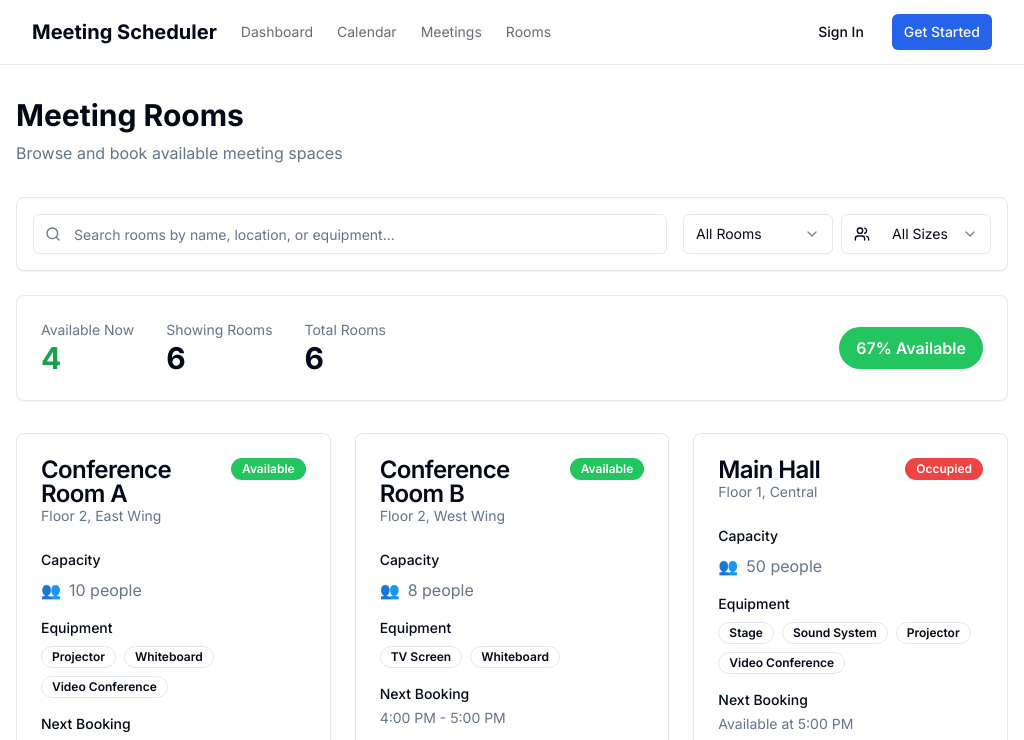
Test: RoomsPage › shows empty state when no rooms match filters
Type "NonexistentRoom12345" into the field with placeholder "Search rooms by name, location, or equipment..." at x=350, y=234, box [33, 214, 667, 254]
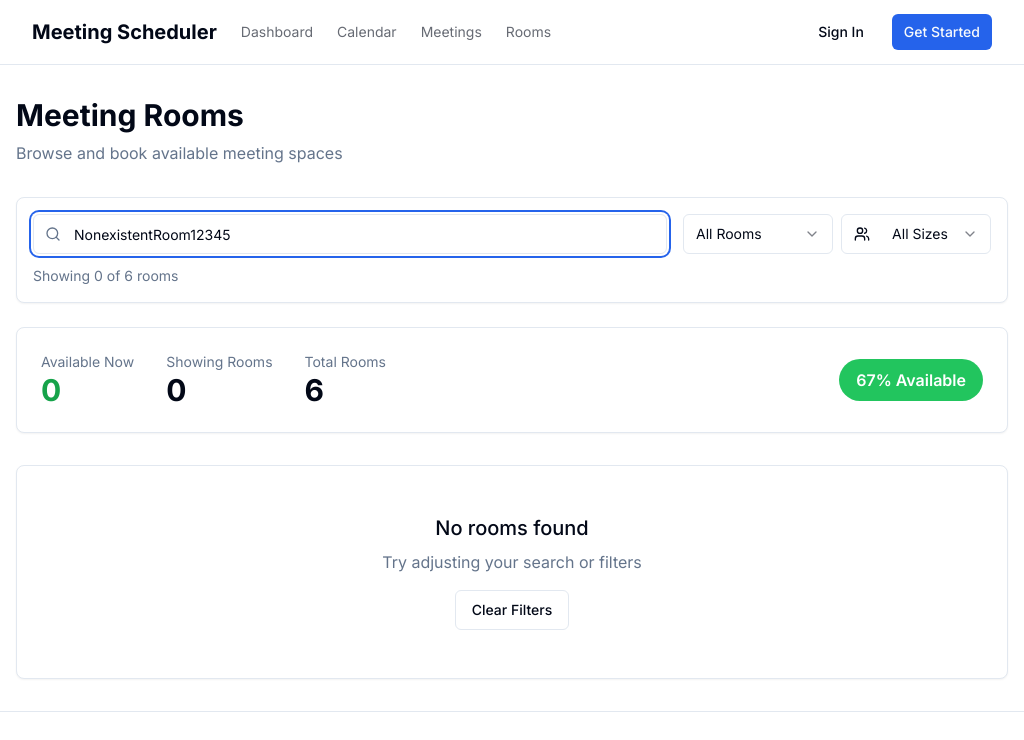
Expected: the text "No rooms found" is shown, [435, 516, 589, 540]
Expected: the text "Try adjusting your search or filters" is shown, [382, 552, 642, 572]
